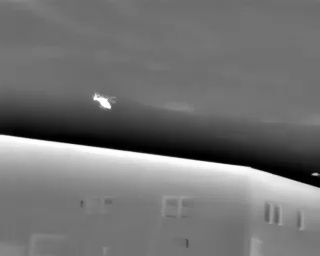HELICOPTER: (90, 88, 120, 116)
